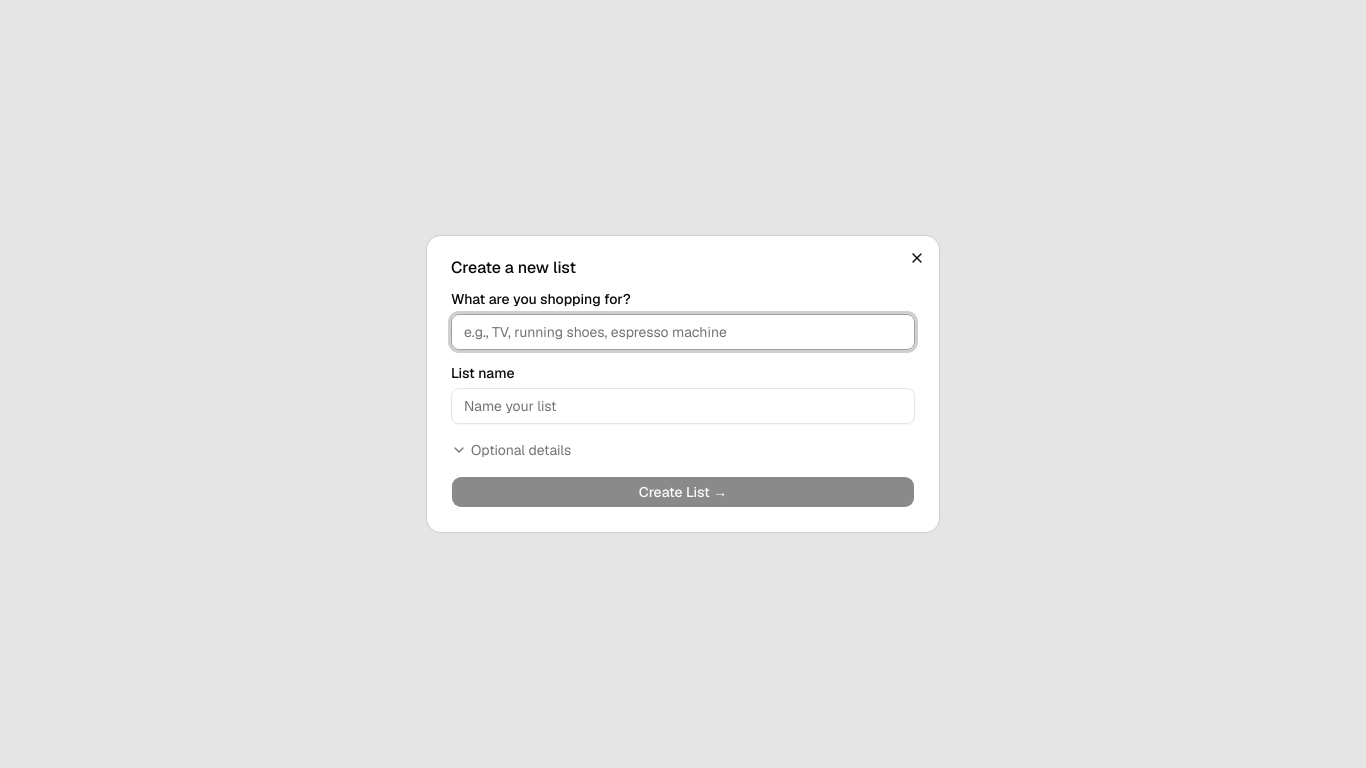
CreateListDialog › shows optional details when toggle is clicked
Click the button "Optional details" at (511, 450), box [451,440,571,460]
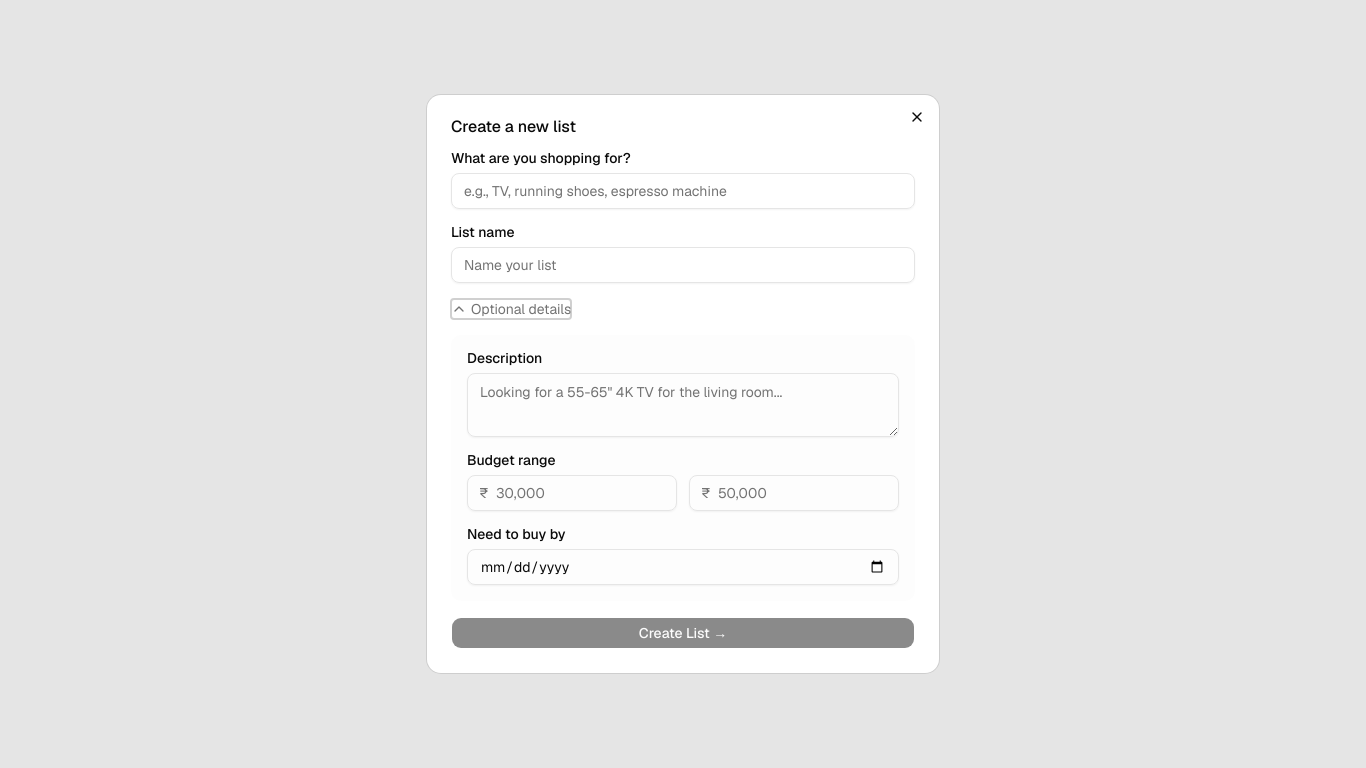
Expected: the text box with placeholder "Looking for a 55-65\" 4K TV for the living room..." is shown, [467,373,899,437]
